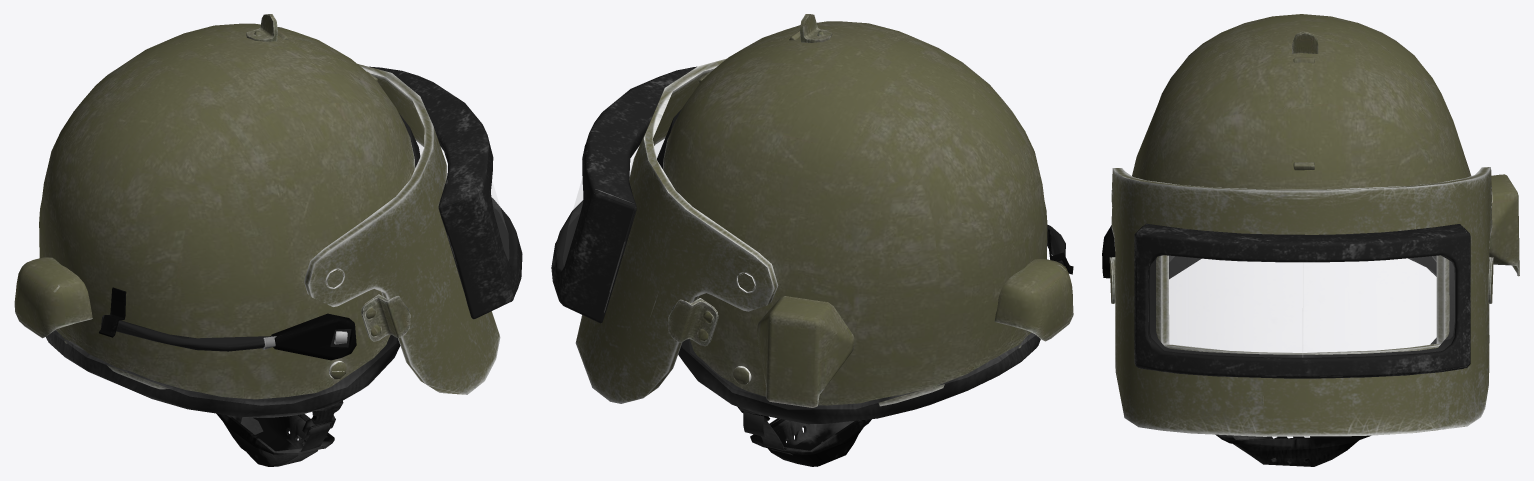
File: helmet3.glb
The picture shows the model from 3 angles, left to right: view 1: azimuth 30°, elevation 25°; view 2: azimuth 150°, elevation 25°; view 3: azimuth 270°, elevation 25°; orthographic projection. The views are drawn at different scales.
Visible parts, largest first — view 1: prop; view 2: prop; view 3: prop.
Boxes of the visible parts, box(x1,y1,x2,y2) form: prop: box(14, 14, 522, 466); prop: box(551, 14, 1073, 466); prop: box(1102, 14, 1519, 466).
Size of the model in its own units: 5.68 by 5.16 by 4.52.
3 materials, 3 textured.
